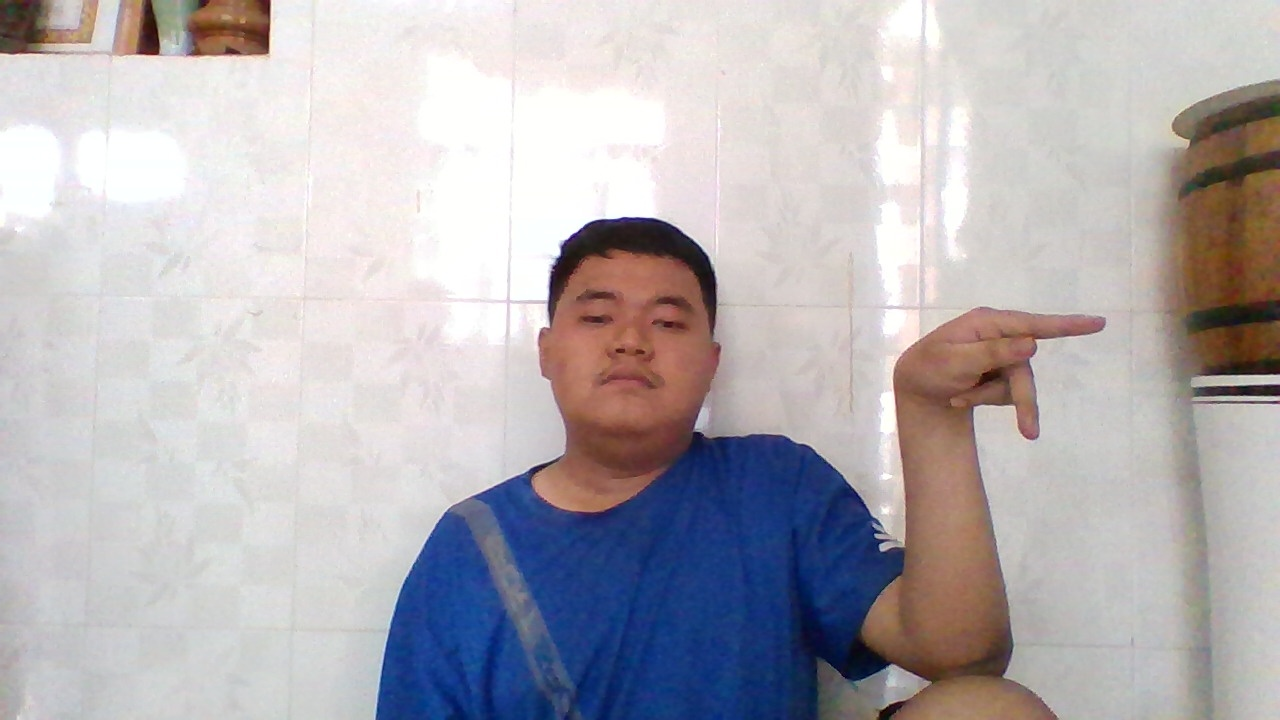P: (898, 305, 1110, 436)
